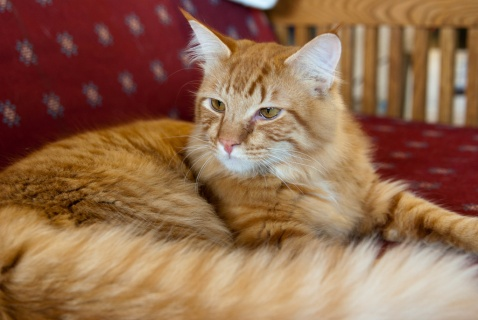Cat: (0, 6, 477, 319)
